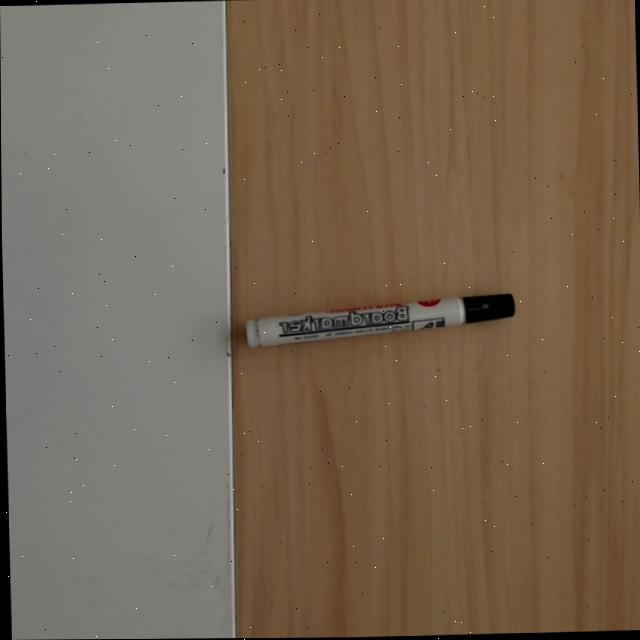Marker-Pen: (243, 291, 516, 347)
